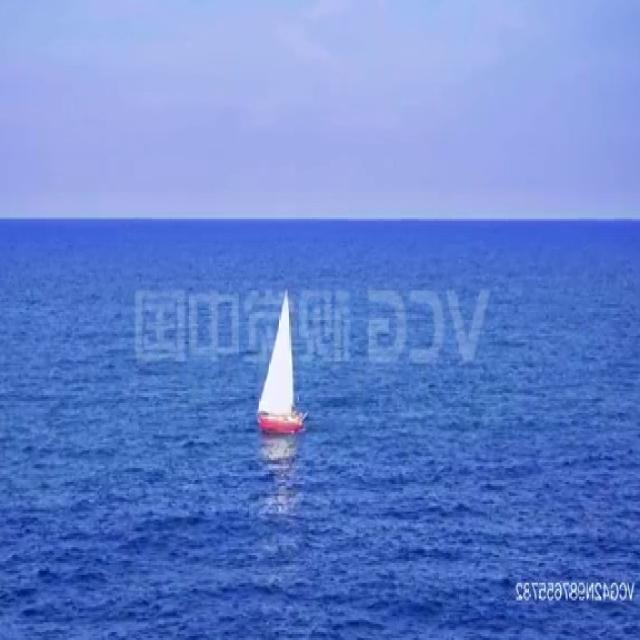sailboat: (257, 286, 309, 436)
